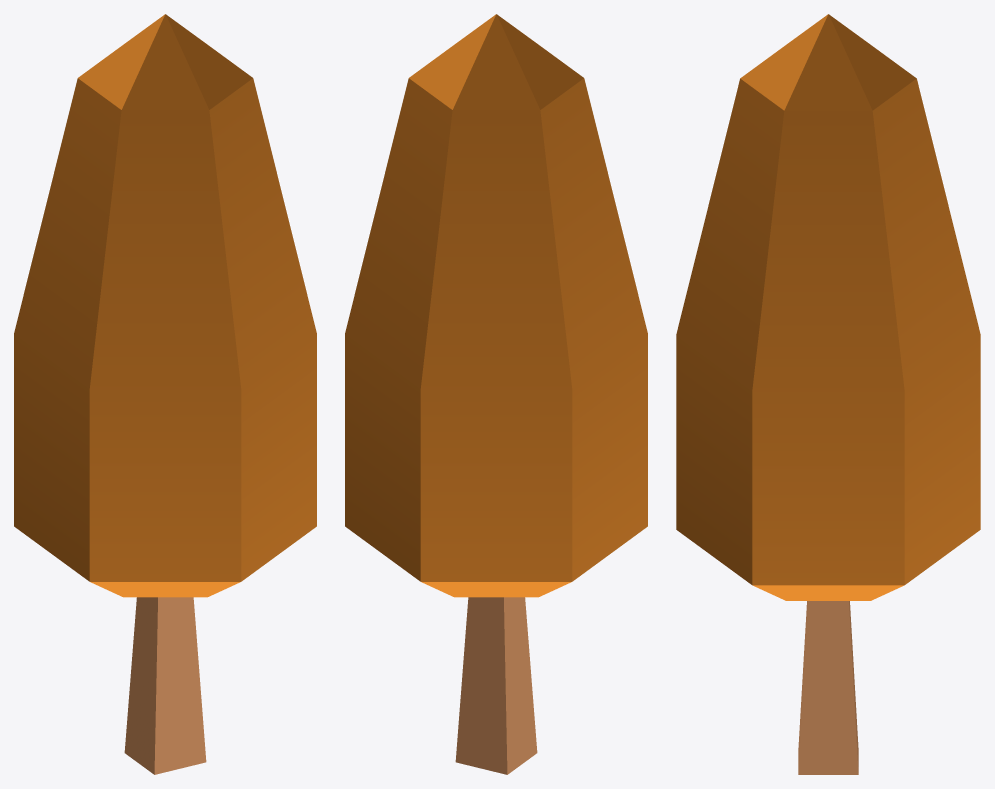
Rendered from tree_small_fall.obj.
The picture shows the model from 3 angles, left to right: view 1: azimuth 30°, elevation 25°; view 2: azimuth 150°, elevation 25°; view 3: azimuth 270°, elevation 25°; orthographic projection.
Visible parts, largest first — view 1: tree_small_fall; view 2: tree_small_fall; view 3: tree_small_fall.
Boxes of the visible parts, box(x1,y1,x2,y2) form: tree_small_fall: box(14, 14, 316, 774); tree_small_fall: box(345, 14, 647, 774); tree_small_fall: box(676, 14, 980, 774).
Size of the model in its own units: 3.55 by 11.1 by 4.09.
